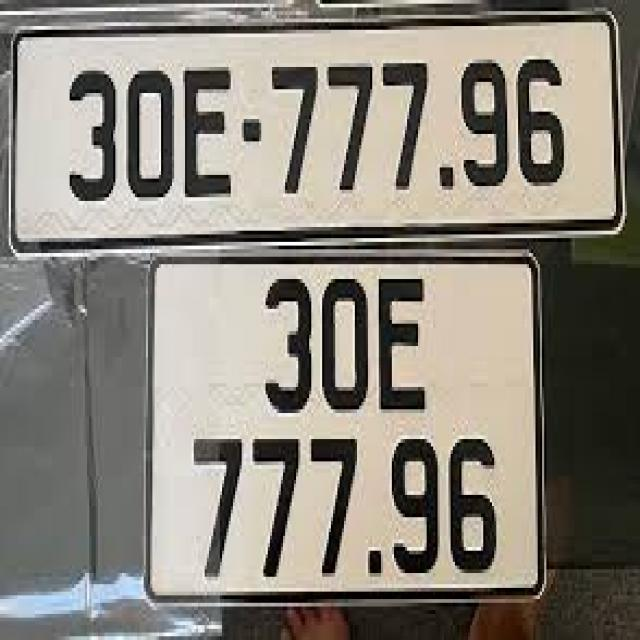0: (124, 59, 176, 201), (318, 272, 370, 413)
3: (63, 60, 120, 208), (259, 272, 316, 413)
6: (446, 428, 501, 577), (514, 52, 568, 190)
7: (187, 428, 242, 580), (307, 428, 359, 577), (248, 432, 300, 580), (379, 56, 431, 193), (268, 56, 318, 197), (324, 56, 372, 193)
9: (385, 428, 442, 577), (455, 52, 509, 190)
E: (374, 268, 434, 413), (181, 56, 235, 201)
